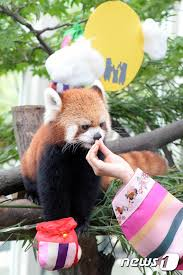redPanda: (19, 82, 111, 173)
